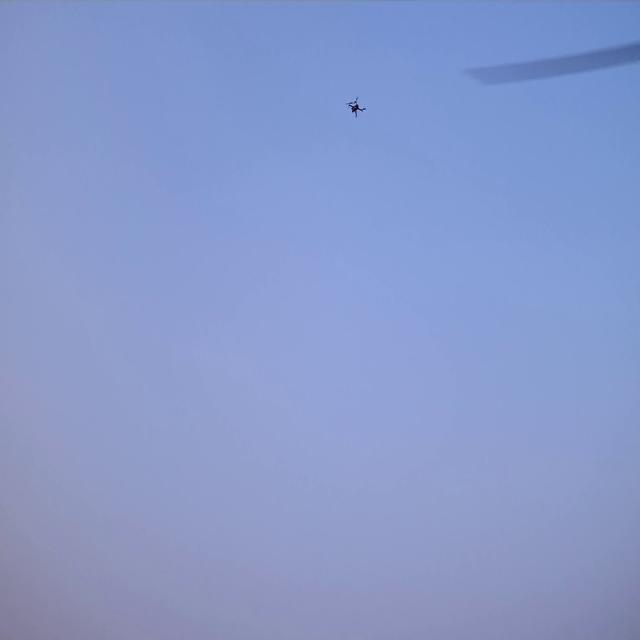UAV: (348, 101, 364, 117)
